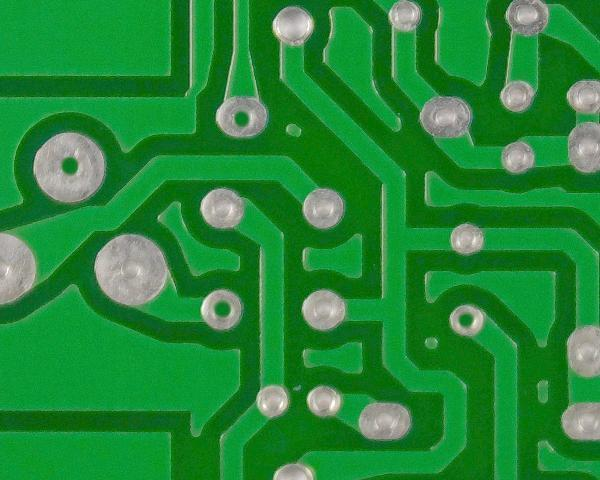missing hole: (31, 128, 111, 205), (211, 92, 275, 142), (199, 285, 245, 333), (445, 300, 489, 341)
